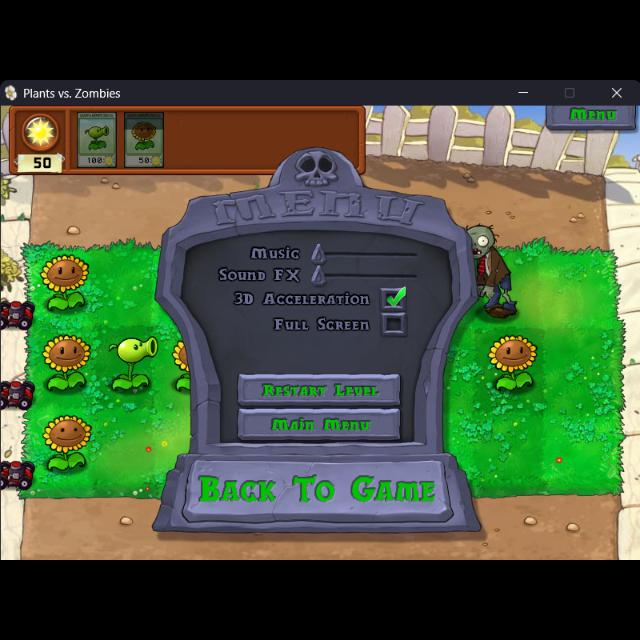BTG Button: (182, 456, 454, 526)
Garden: (22, 242, 628, 500)
Main Menu Button: (238, 410, 402, 442)
Menu Button: (544, 104, 638, 132)
Mower: (0, 296, 38, 332), (0, 377, 36, 413), (0, 459, 36, 493)
Pause Menu: (150, 146, 482, 534)
Peashooter: (76, 112, 118, 168)
Peashooter Seed: (102, 334, 164, 396)
Restart Level Button: (238, 372, 400, 406)
Seed Panel: (7, 104, 366, 178)
Sunflower: (126, 110, 166, 168)
Sunflower Seed: (39, 332, 95, 396), (488, 331, 542, 397), (41, 249, 90, 315), (42, 411, 94, 473), (170, 338, 193, 398)
Zombie: (460, 220, 520, 322)
